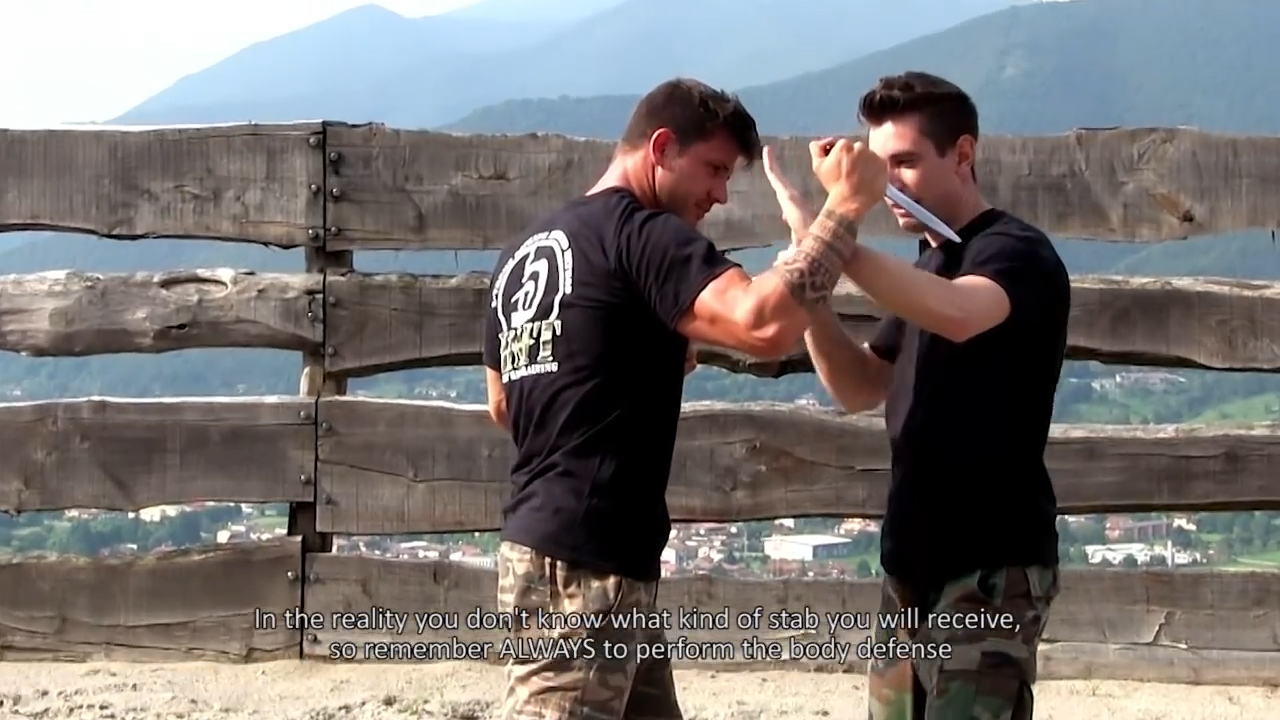knife: (808, 133, 968, 248)
